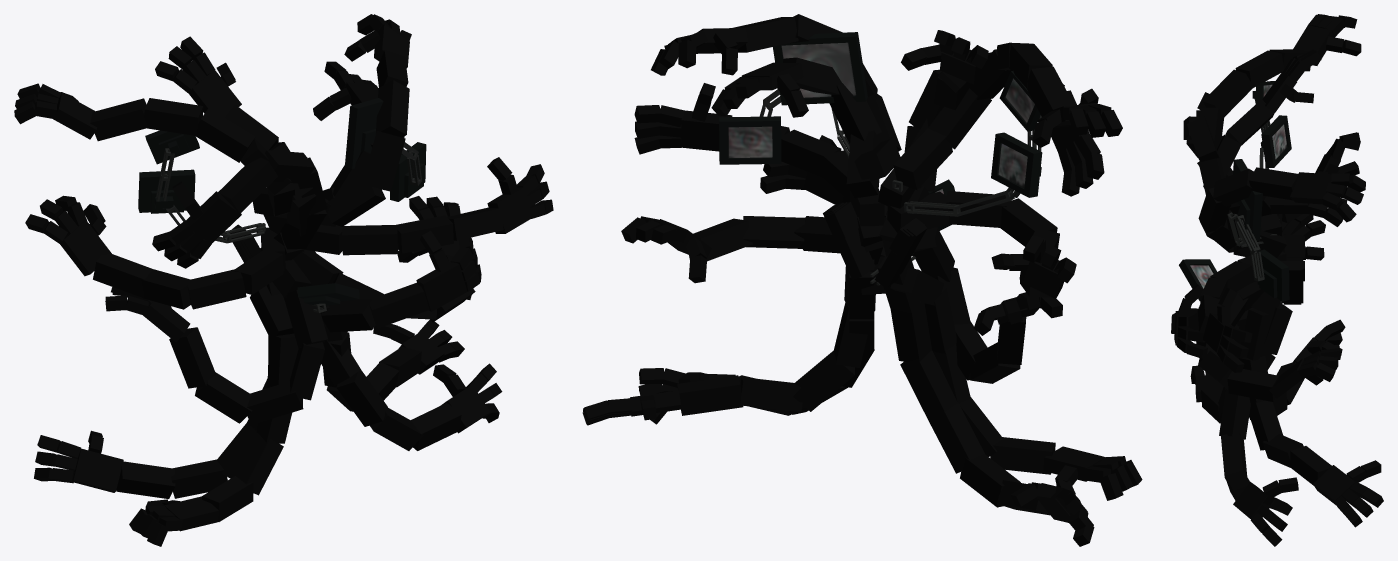
File: Mr Josh v2.fbx
The picture shows the model from 3 angles, left to right: view 1: azimuth 30°, elevation 25°; view 2: azimuth 150°, elevation 25°; view 3: azimuth 270°, elevation 25°; orthographic projection. The views are drawn at different scales.
Visible parts, largest first — view 1: Hands; view 2: Hands; view 3: Hands.
Part boxes in pixels (x1,y1,x2,y2): Hands: (14,14,553,546); Hands: (582,14,1142,546); Hands: (1171,14,1383,546).
Size of the model in its own units: 318 by 273 by 139.
1 material, 1 textured.
